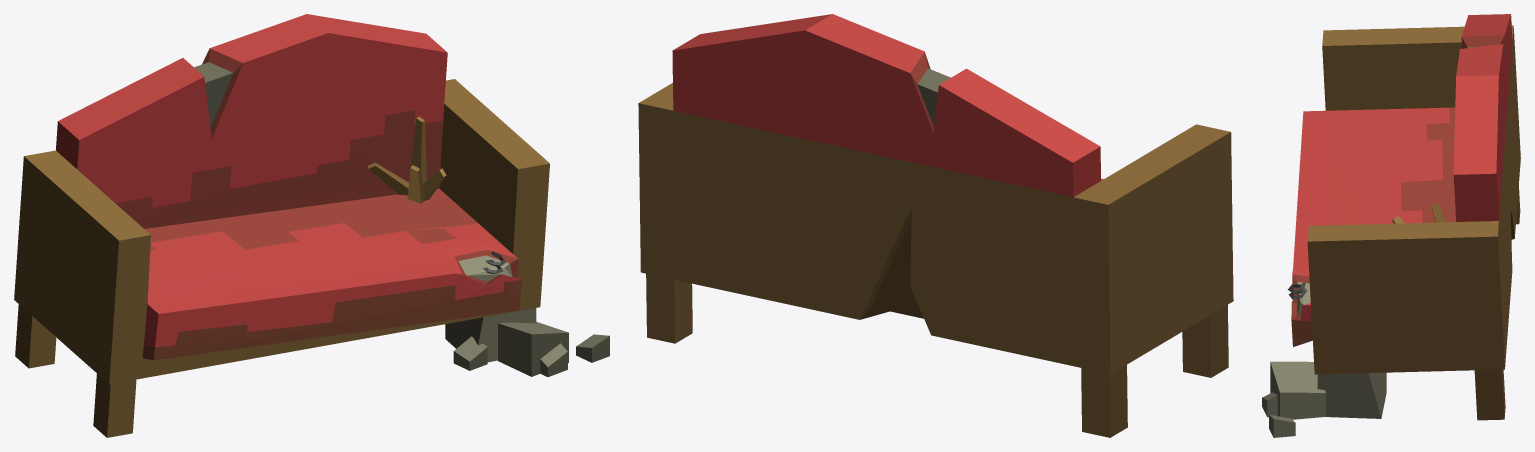
The model's file is SA_Prop_Couch_Damaged_01.glb.
The picture shows the model from 3 angles, left to right: view 1: azimuth 30°, elevation 25°; view 2: azimuth 150°, elevation 25°; view 3: azimuth 270°, elevation 25°; orthographic projection. The views are drawn at different scales.
Parts seen in each view (by area): view 1: SA_Prop_Couch_Damaged_01; view 2: SA_Prop_Couch_Damaged_01; view 3: SA_Prop_Couch_Damaged_01.
Boxes of the visible parts, box(x1,y1,x2,y2) form: SA_Prop_Couch_Damaged_01: box(14, 14, 609, 437); SA_Prop_Couch_Damaged_01: box(638, 14, 1233, 437); SA_Prop_Couch_Damaged_01: box(1262, 14, 1520, 437).
Size of the model in its own units: 1.46 by 0.8973 by 0.7426.
1 material, 1 textured.
